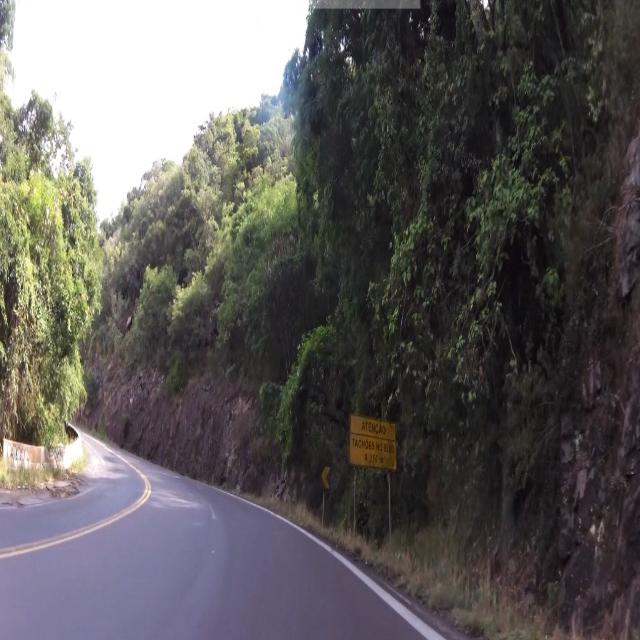Del: (319, 456, 329, 494)
